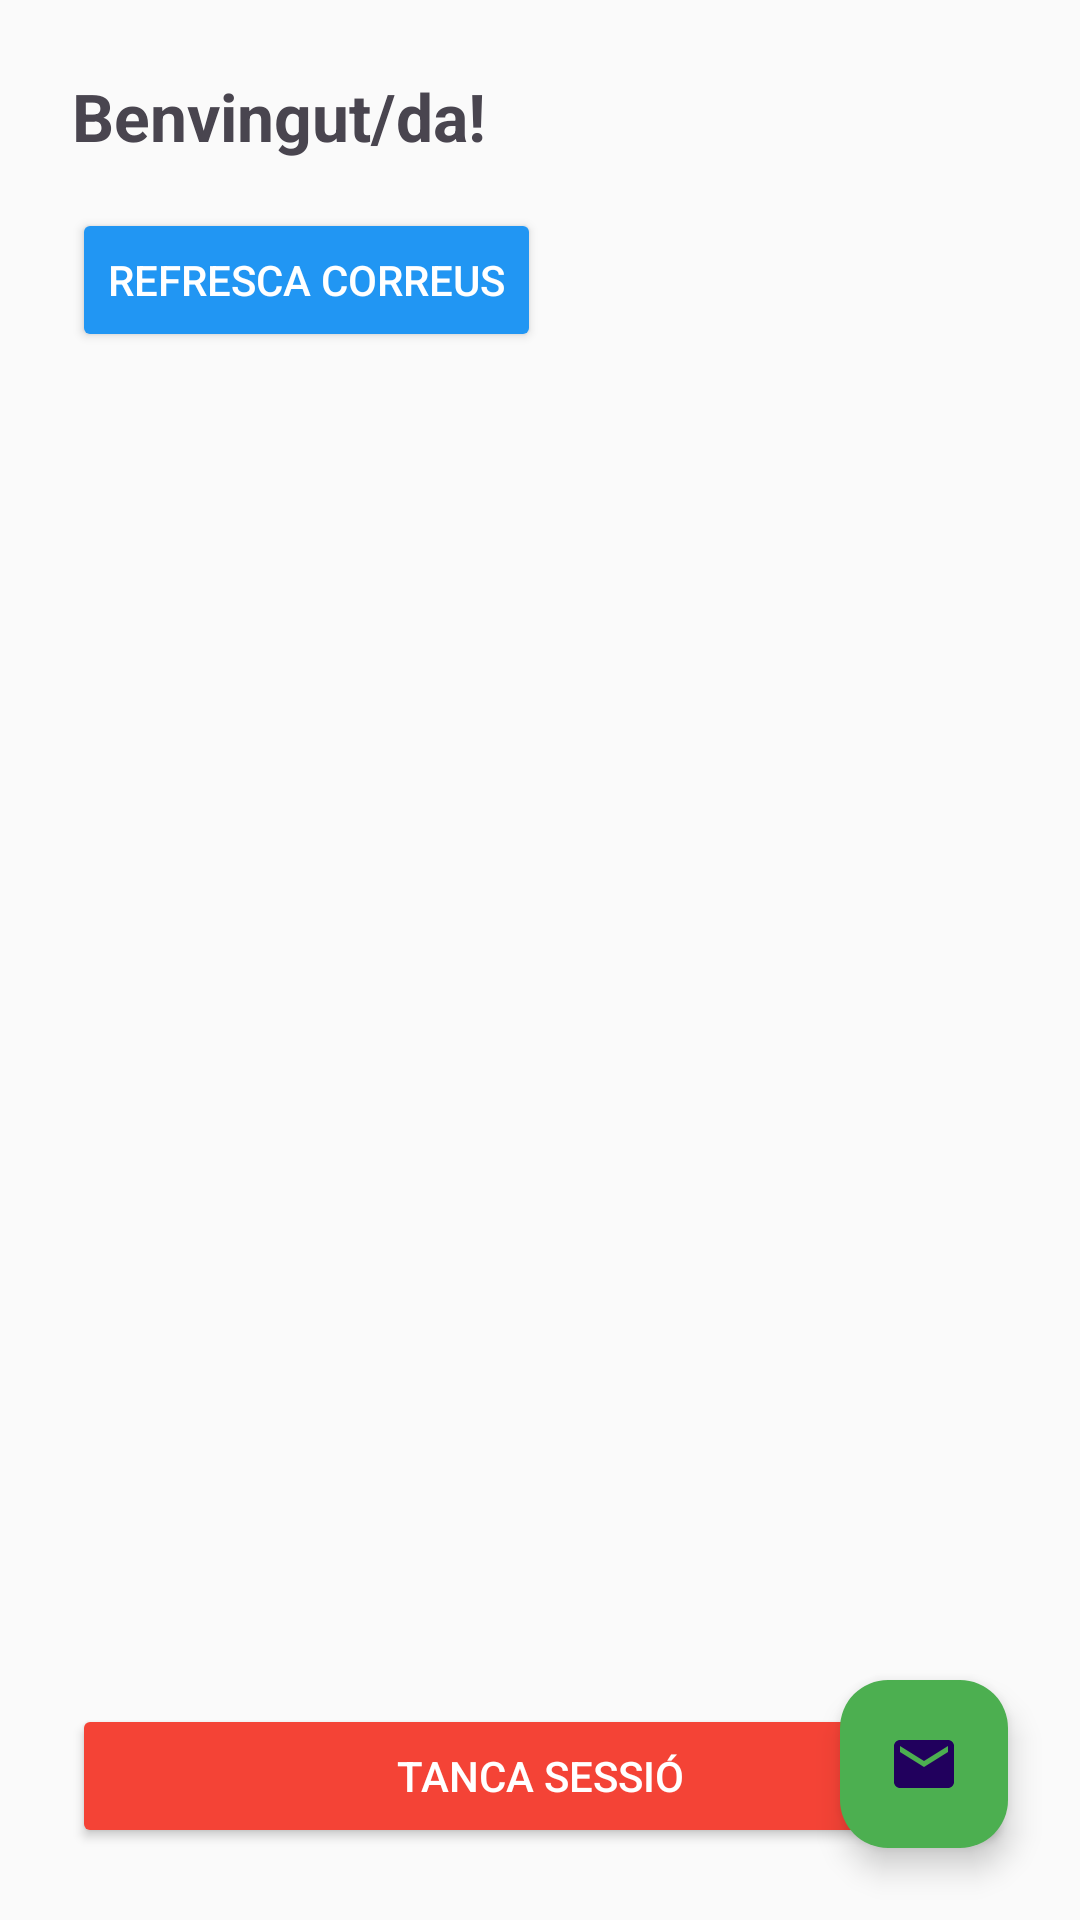

Where to tap for icons on this 1080 × 1920 app screen, as [x,y]:
Envia un correu: [924,1764]
